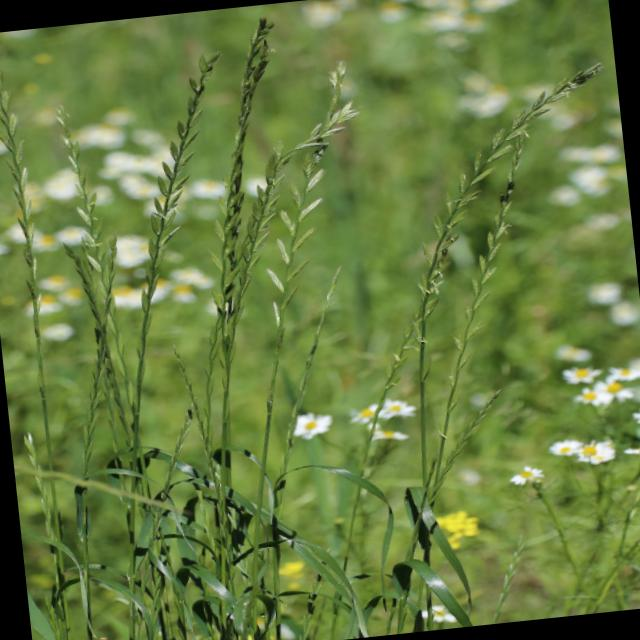Lolium: (384, 61, 616, 342), (400, 128, 564, 474), (182, 12, 302, 350), (250, 65, 370, 323), (132, 46, 239, 255), (48, 103, 110, 292), (0, 54, 42, 304)
